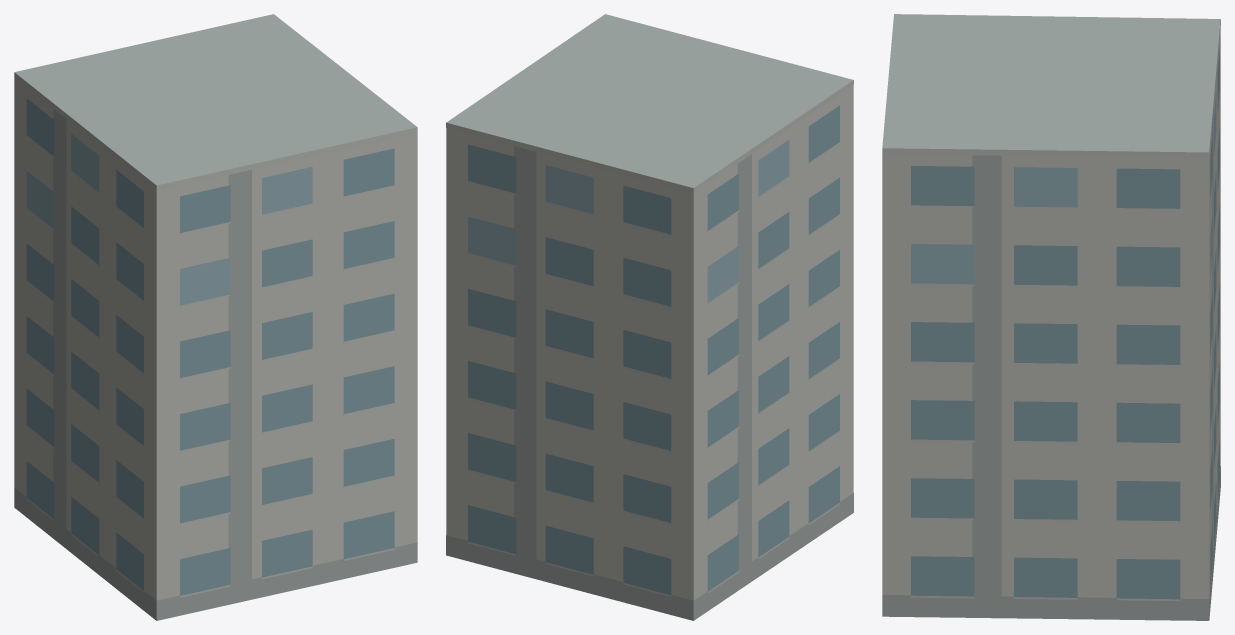
Rendered from survey-upis-32877316.glb.
3 views of the same model, side by side, from view 1: azimuth 30°, elevation 25°; view 2: azimuth 150°, elevation 25°; view 3: azimuth 270°, elevation 25° (orthographic). The views are drawn at different scales.
Visible parts, largest first — view 1: survey-upis-32877316.tmp; view 2: survey-upis-32877316.tmp; view 3: survey-upis-32877316.tmp.
Boxes of the visible parts, left/top/right/bottom form: survey-upis-32877316.tmp: left=14, top=14, right=417, bottom=620; survey-upis-32877316.tmp: left=446, top=14, right=853, bottom=620; survey-upis-32877316.tmp: left=882, top=14, right=1220, bottom=620.
Size of the model in its own units: 12.37 by 19.5 by 12.78.
